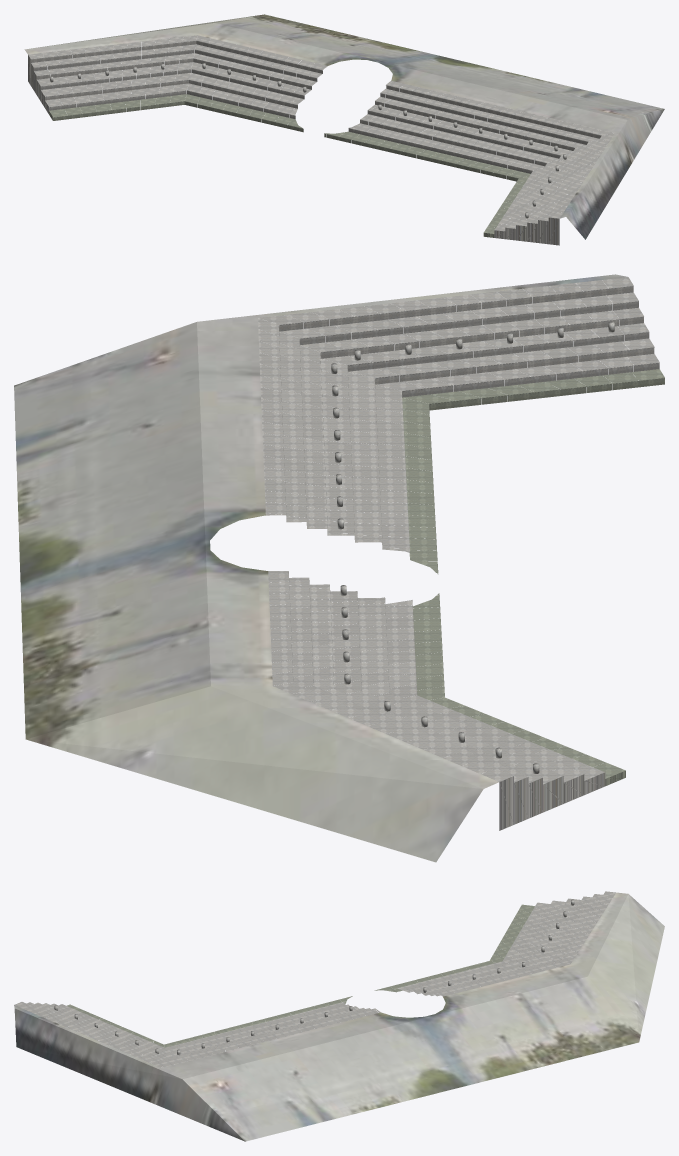
3 renders of one model, top to bottom at view 1: azimuth 30°, elevation 25°; view 2: azimuth 150°, elevation 25°; view 3: azimuth 270°, elevation 25°, orthographic. The views are drawn at different scales.
Parts seen in each view (by area): view 1: Merlion Park granite, Merlion Park landing; view 2: Merlion Park landing, Merlion Park granite; view 3: Merlion Park landing, Merlion Park granite.
Part boxes in pixels (<box>): Merlion Park granite: <box>28,35,614,245</box>; Merlion Park landing: <box>24,14,664,239</box>; Merlion Park landing: <box>14,274,627,862</box>; Merlion Park granite: <box>258,277,664,830</box>; Merlion Park landing: <box>14,892,664,1141</box>; Merlion Park granite: <box>14,891,615,1067</box>.
Size of the model in its own units: 44.71 by 2.6 by 53.22.
2 materials, 2 textured.
